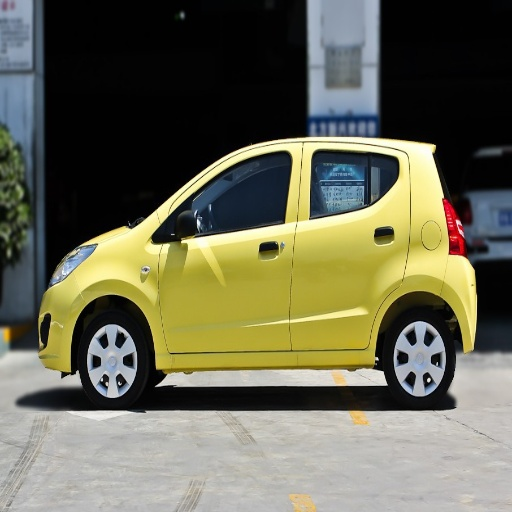back_left_door: (293, 144, 405, 348)
front_left_door: (161, 147, 302, 353)
